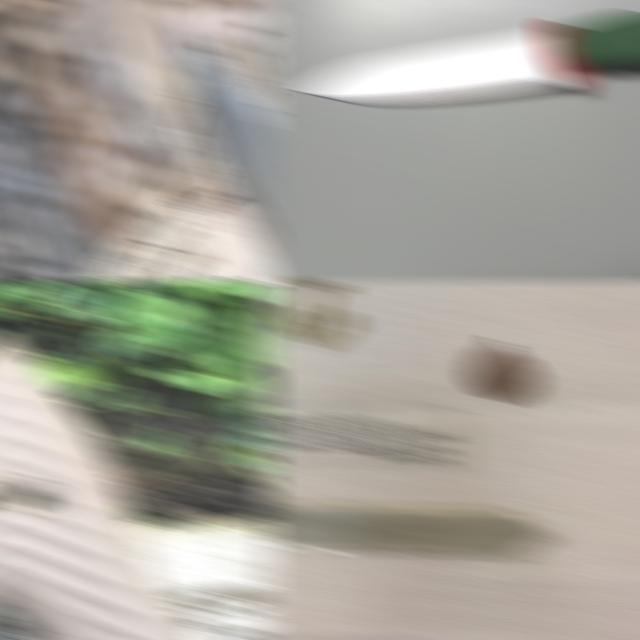Knife: (302, 13, 640, 102)
